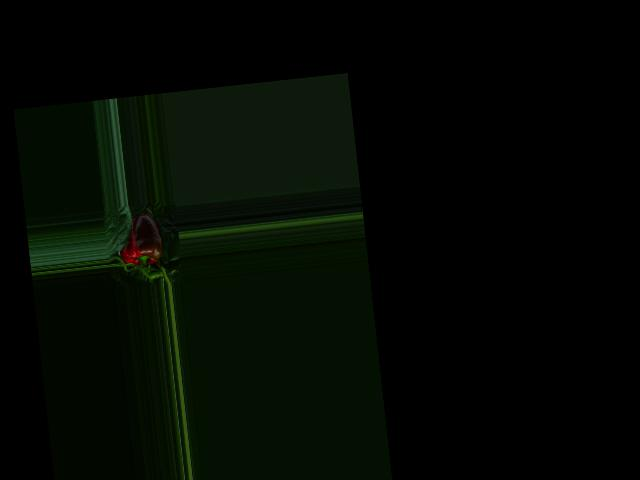bell_pepper: (113, 208, 171, 274)
